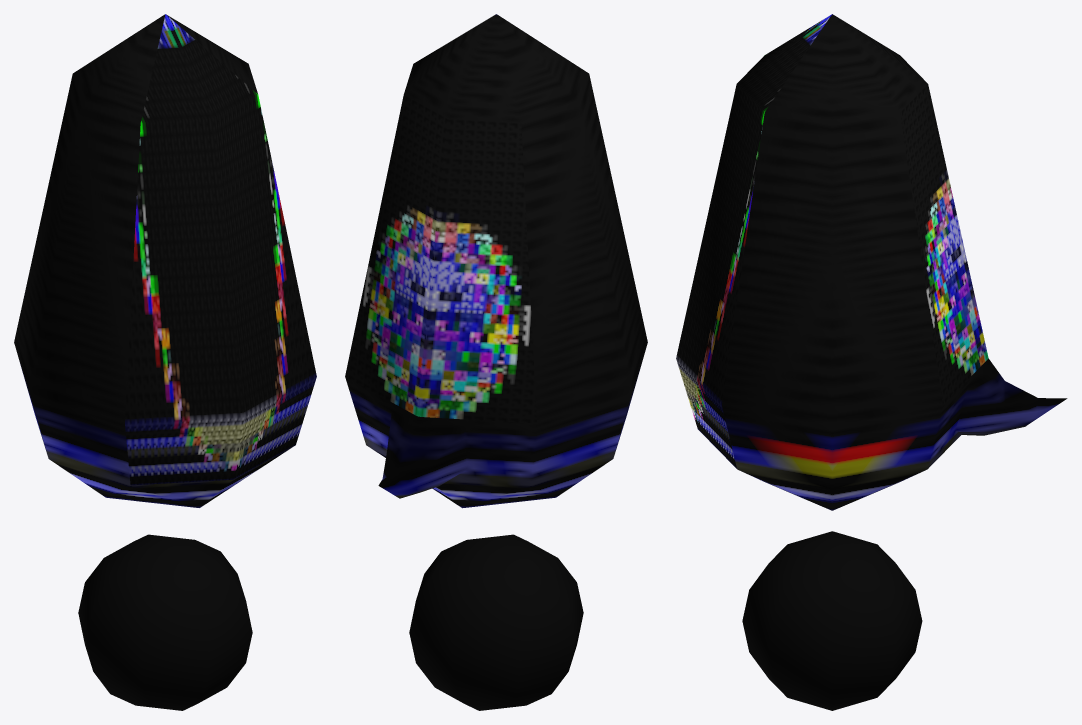
File: cloth_yoshi_model.glb
3 views of the same model, side by side, from view 1: azimuth 30°, elevation 25°; view 2: azimuth 150°, elevation 25°; view 3: azimuth 270°, elevation 25° (orthographic).
Parts seen in each view (by area): view 1: cloth_yoshi_model; view 2: cloth_yoshi_model; view 3: cloth_yoshi_model.
Part boxes in pixels (left/top/right/bottom): cloth_yoshi_model: left=14, top=14, right=316, bottom=710; cloth_yoshi_model: left=345, top=14, right=647, bottom=710; cloth_yoshi_model: left=676, top=14, right=1067, bottom=710.
Size of the model in its own units: 35.53 by 86.34 by 44.53.
Materials: 1 (1 with a texture image).
